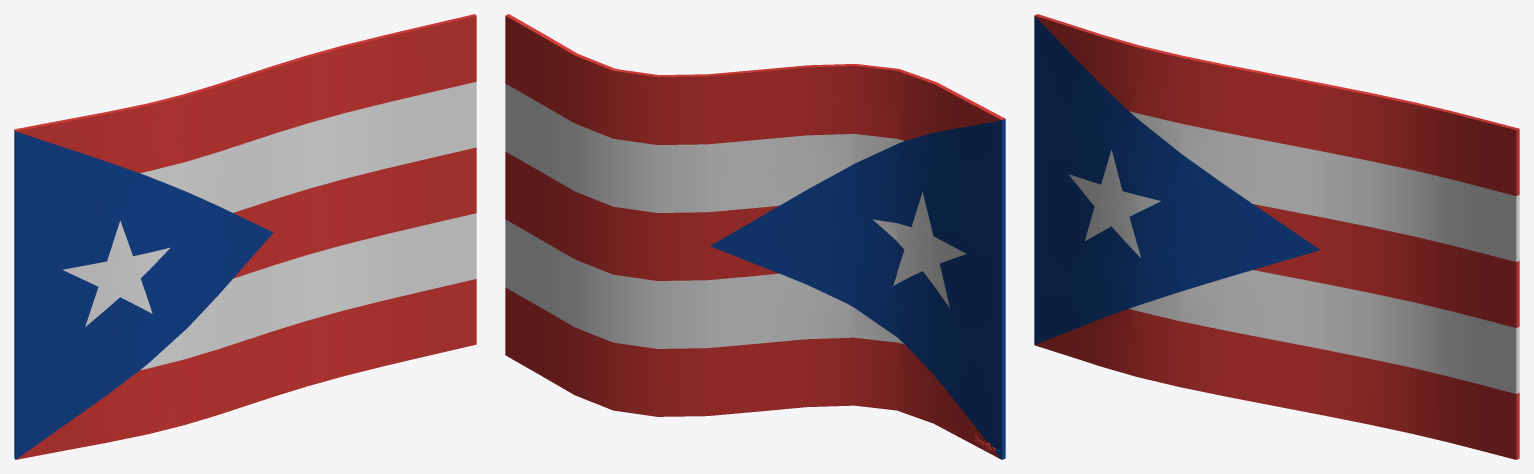
Rendered from flag_puerto_rico.fbx.
The picture shows the model from 3 angles, left to right: view 1: azimuth 30°, elevation 25°; view 2: azimuth 150°, elevation 25°; view 3: azimuth 330°, elevation 25°; orthographic projection. The views are drawn at different scales.
Parts seen in each view (by area): view 1: flag_puerto_rico; view 2: flag_puerto_rico; view 3: flag_puerto_rico.
Boxes of the visible parts, left/top/right/bottom form: flag_puerto_rico: left=14, top=14, right=476, bottom=459; flag_puerto_rico: left=505, top=14, right=1005, bottom=459; flag_puerto_rico: left=1034, top=14, right=1519, bottom=459.
Size of the model in its own units: 218 by 158 by 33.73.
2 materials, 2 textured.
